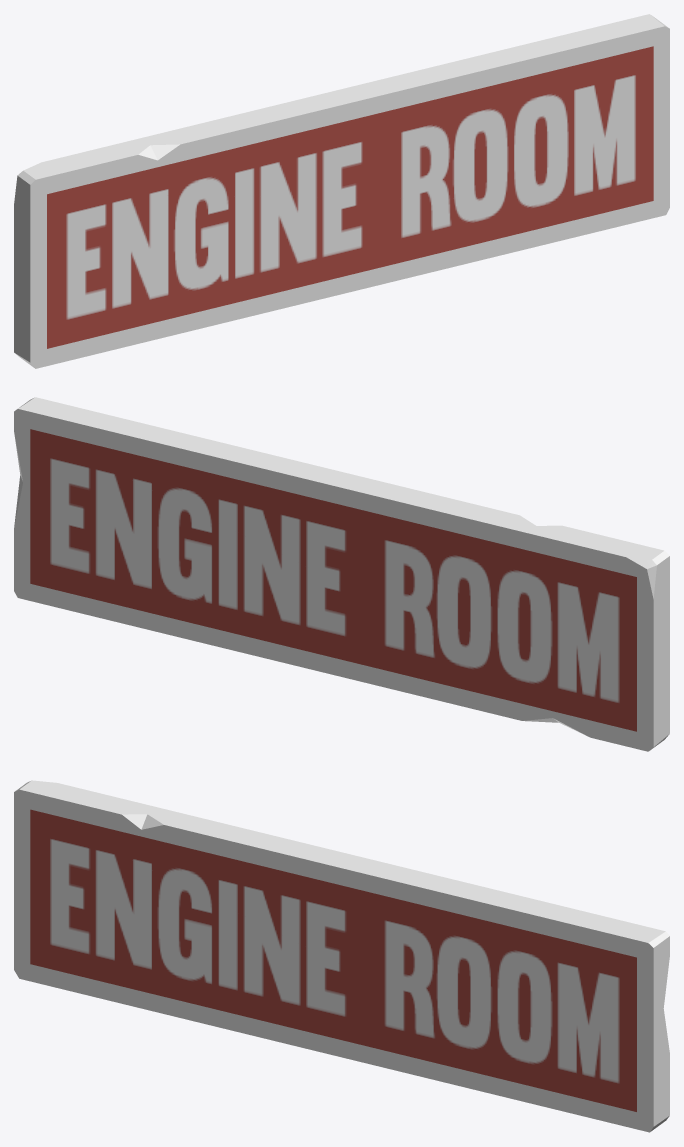
The model's file is SM_Sign_EngineRoom_01.fbx.
The picture shows the model from 3 angles, top to bottom: view 1: azimuth 30°, elevation 25°; view 2: azimuth 150°, elevation 25°; view 3: azimuth 330°, elevation 25°; orthographic projection.
Visible parts, largest first — view 1: SM_Sign_EngineRoom_01; view 2: SM_Sign_EngineRoom_01; view 3: SM_Sign_EngineRoom_01.
Boxes of the visible parts, x1,y1,x2,y2 form: SM_Sign_EngineRoom_01: [14, 14, 669, 368]; SM_Sign_EngineRoom_01: [14, 397, 669, 751]; SM_Sign_EngineRoom_01: [14, 780, 669, 1132].
Bounding box in the file's own units: 325 × 91.8 × 14.42.
1 material, 1 textured.
